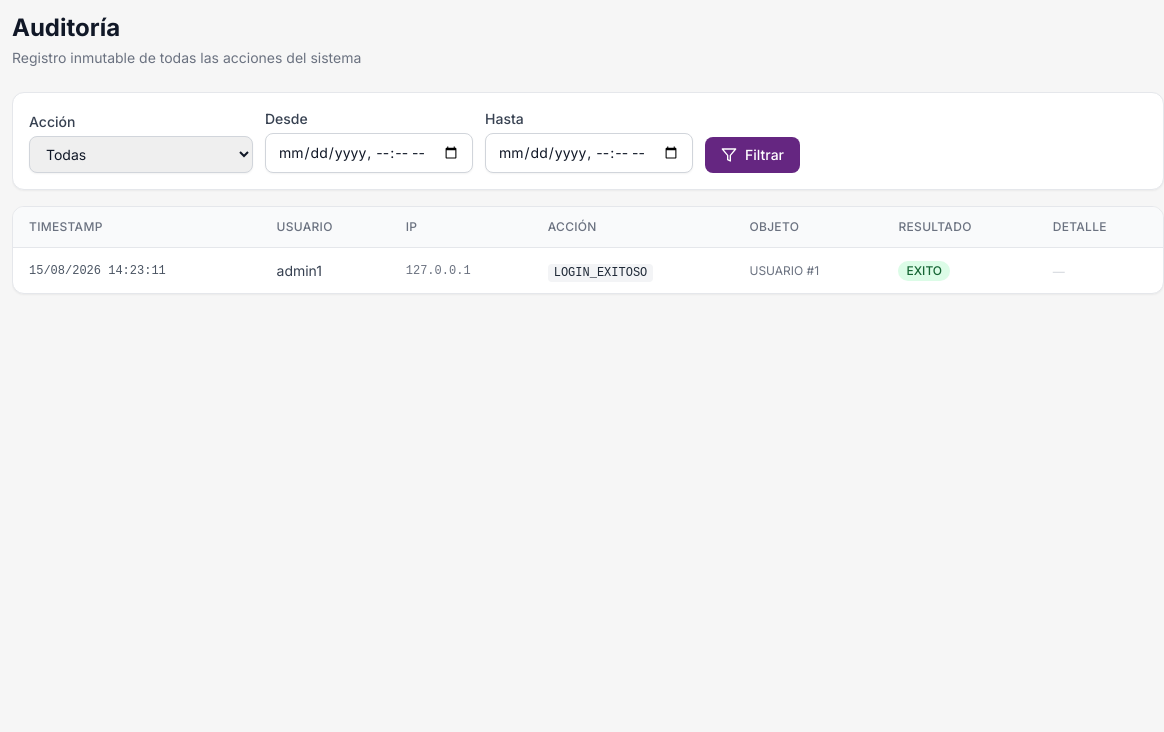
Test: AuditoriaPage › limpiar filtros resetea el formulario
The image size is (1164, 732).
expect the text "admin1" is shown: met, box [276, 262, 322, 278]
Step 1. Select "LOGIN_FALLIDO" in the dropdown → (141, 154), box [29, 136, 253, 173]
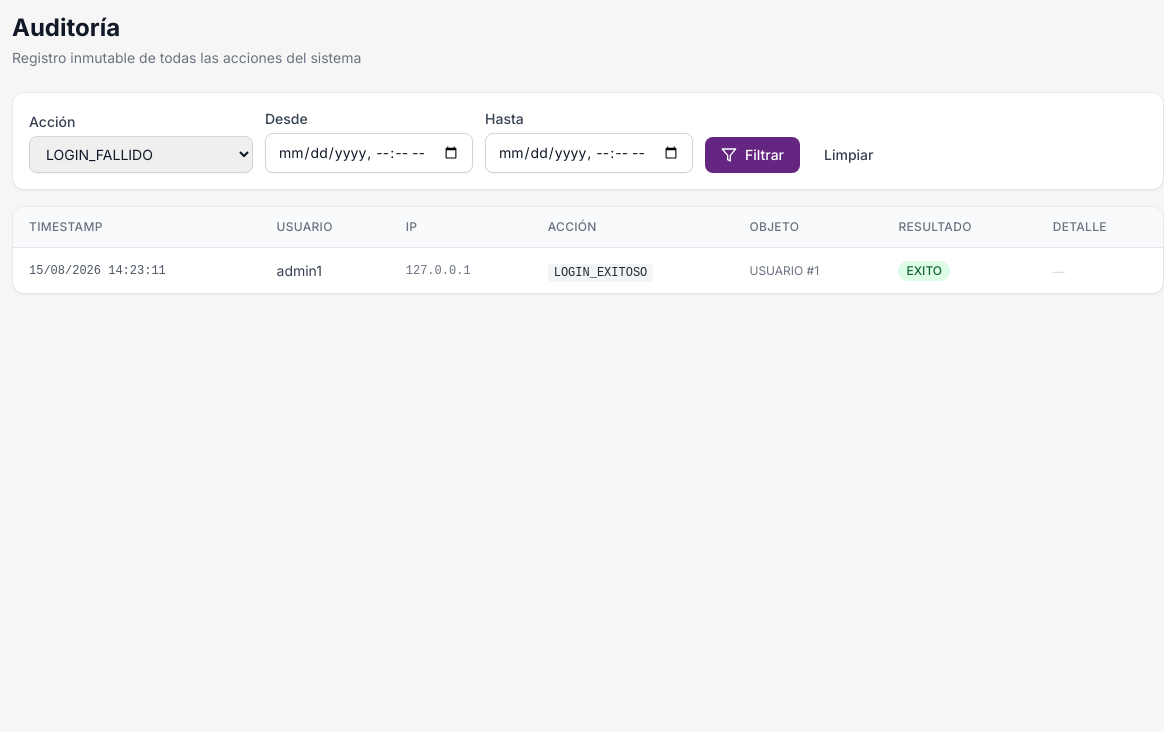
Step 2. Click the button "Filtrar" → (752, 155), box [705, 137, 800, 173]
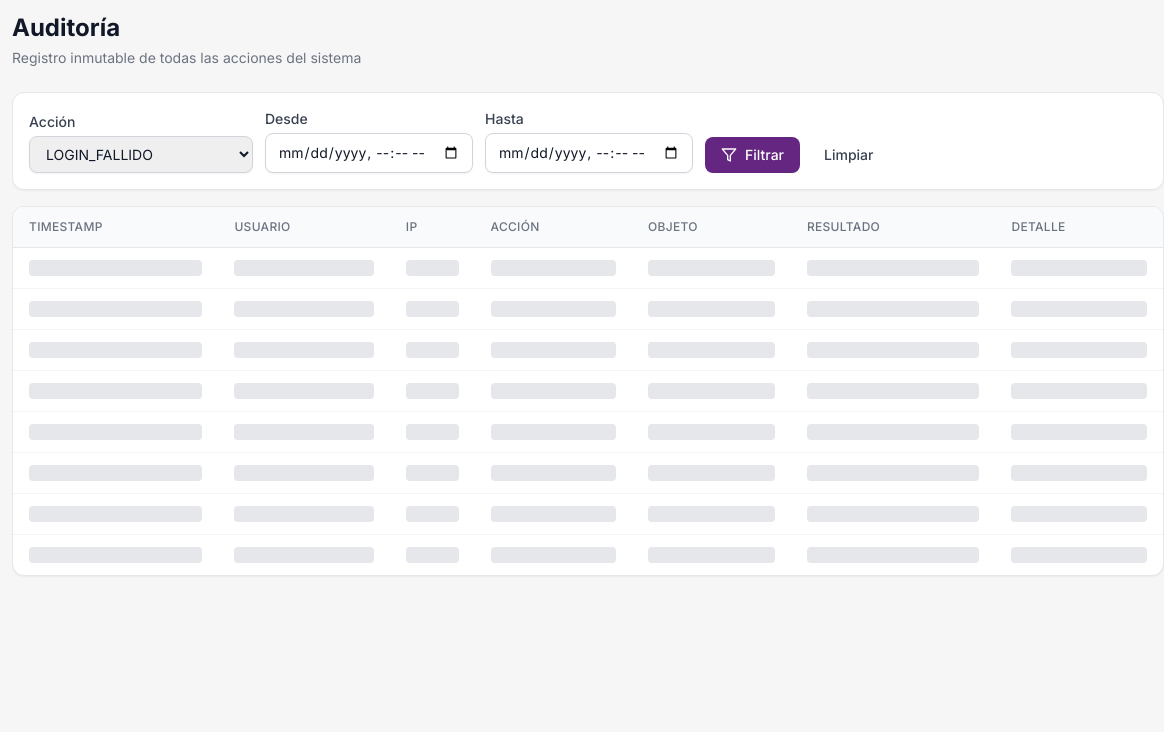
expect the button "Limpiar" is shown: met
Step 3. Click the button "Limpiar" → (849, 155), box [808, 137, 889, 173]
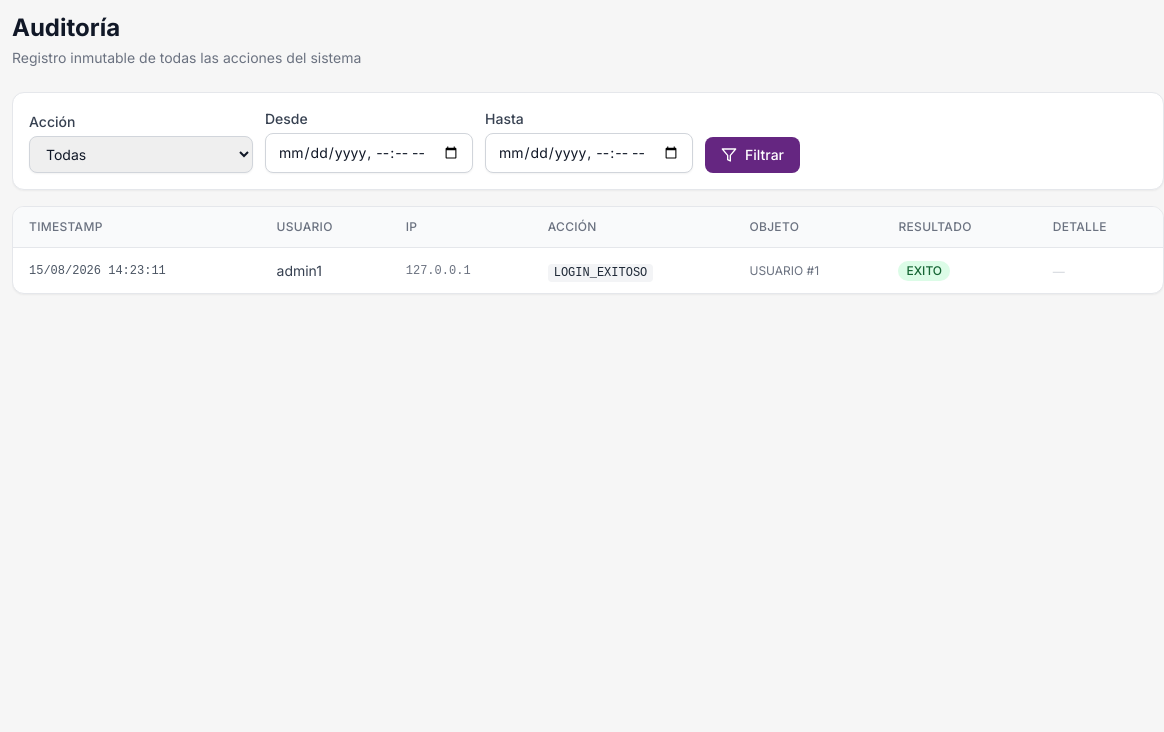
expect the button "Limpiar" is gone: met
